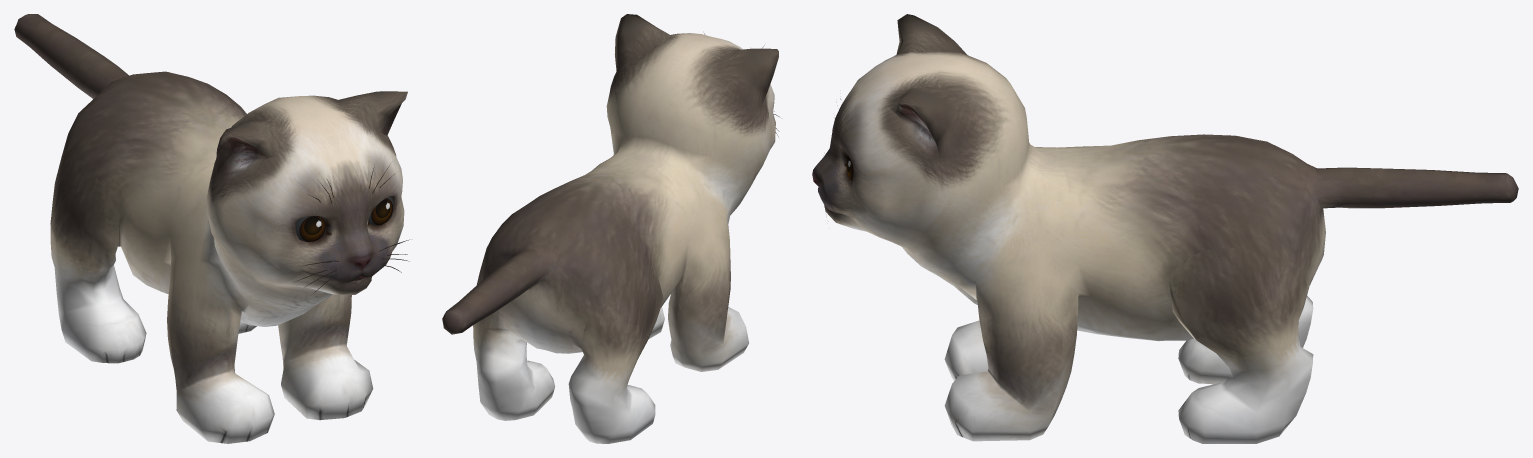
The model's file is SK_Cat.fbx.
3 views of the same model, side by side, from view 1: azimuth 30°, elevation 25°; view 2: azimuth 150°, elevation 25°; view 3: azimuth 270°, elevation 25° (orthographic). The views are drawn at different scales.
Parts seen in each view (by area): view 1: L02_S03_Cat; view 2: L02_S03_Cat; view 3: L02_S03_Cat.
Boxes of the visible parts, bbox=[...] form: L02_S03_Cat: bbox=[14, 14, 409, 443]; L02_S03_Cat: bbox=[442, 14, 779, 443]; L02_S03_Cat: bbox=[812, 14, 1518, 443].
Bounding box in the file's own units: 15.83 × 26.95 × 49.96.
